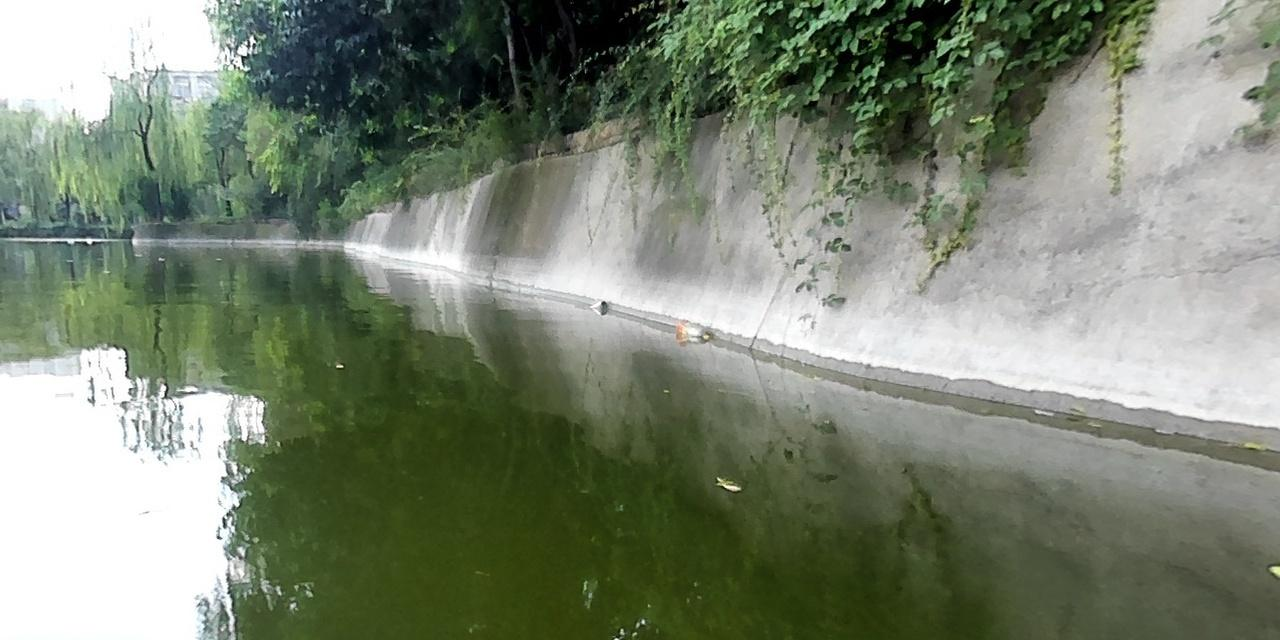bottle: (671, 316, 711, 345)
